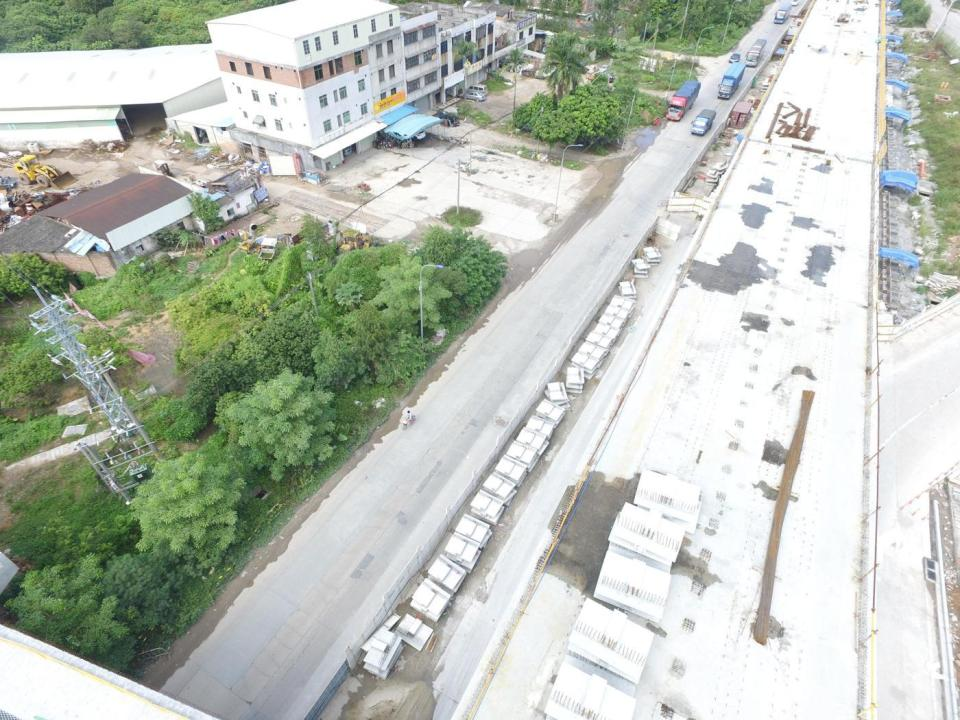bus: (746, 38, 767, 65), (774, 5, 790, 23)
car: (338, 231, 370, 257), (332, 138, 352, 156), (404, 129, 426, 142), (596, 70, 614, 82), (439, 116, 459, 126), (463, 92, 484, 101), (730, 52, 741, 63), (790, 1, 798, 6)
truck: (666, 80, 699, 120), (717, 62, 744, 99), (693, 108, 715, 140)
van: (466, 85, 488, 94)
